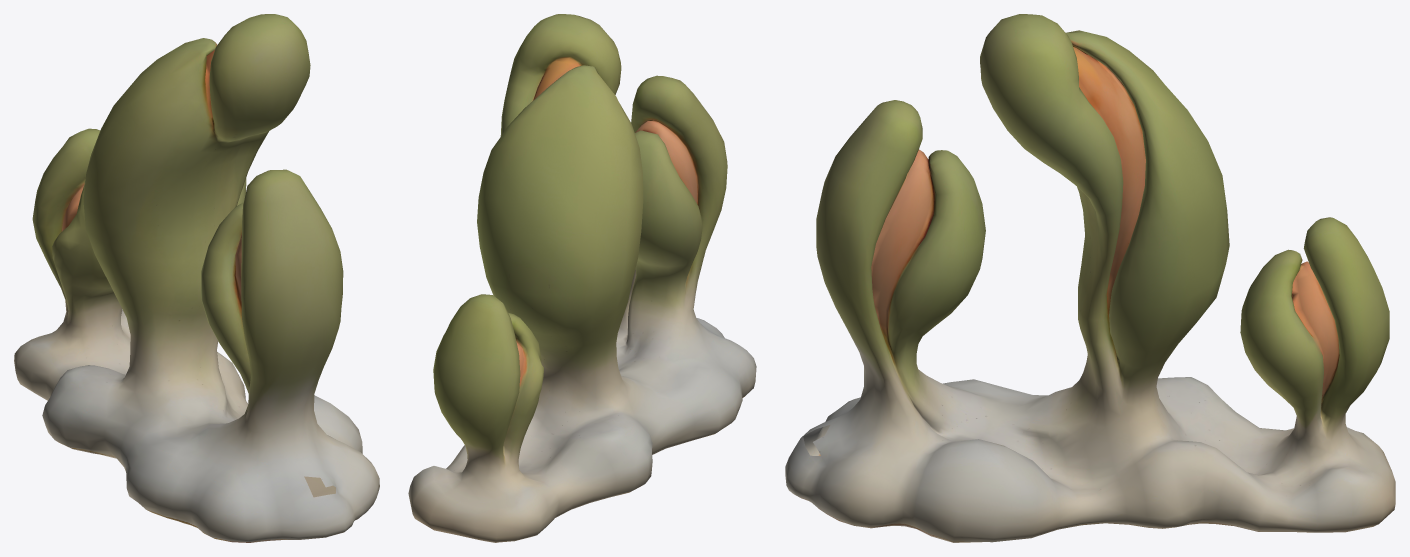
File: 2d5d85a6-2b9b-407b-b314-1f56207ccea0.glb
3 renders of one model, left to right at view 1: azimuth 30°, elevation 25°; view 2: azimuth 150°, elevation 25°; view 3: azimuth 270°, elevation 25°, orthographic. The views are drawn at different scales.
Visible parts, largest first — view 1: tripo_node_f8f6ad6c-542c-46e1-8238-6d9ba8692d6f; view 2: tripo_node_f8f6ad6c-542c-46e1-8238-6d9ba8692d6f; view 3: tripo_node_f8f6ad6c-542c-46e1-8238-6d9ba8692d6f.
Boxes of the visible parts, <box> form: tripo_node_f8f6ad6c-542c-46e1-8238-6d9ba8692d6f: <box>14,14,379,542</box>; tripo_node_f8f6ad6c-542c-46e1-8238-6d9ba8692d6f: <box>408,14,756,542</box>; tripo_node_f8f6ad6c-542c-46e1-8238-6d9ba8692d6f: <box>785,14,1395,542</box>.
Bounding box in the file's own units: 0.4716 × 0.9178 × 1.
1 material, 1 textured.
